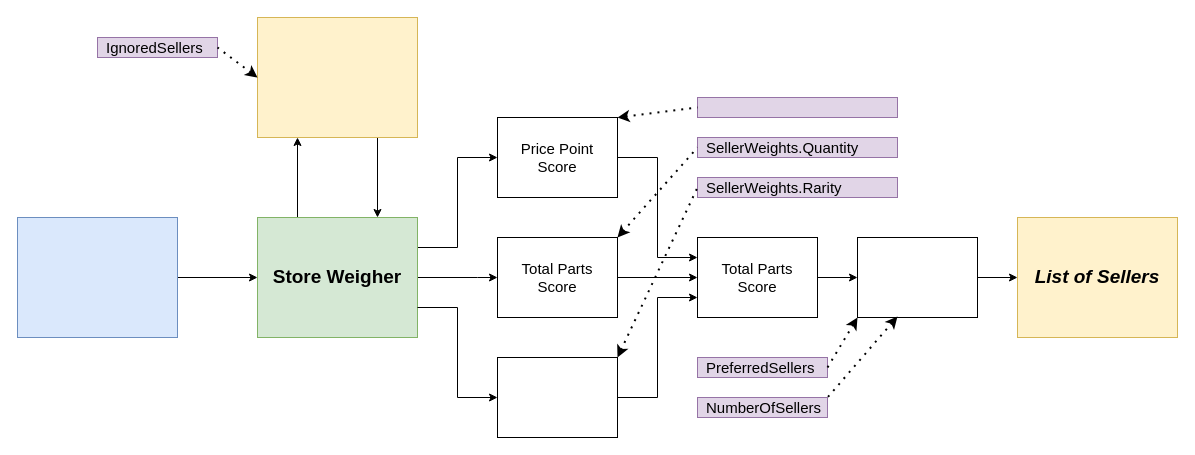
Some shapes in this 1195 by 455 pixel diagram are drawn without their labels. Each missing label, with the box of its shape:
ItemData: (16, 216, 178, 338)
Part Rarity Score: (496, 356, 618, 438)
Seller Rankings collection: (256, 16, 418, 138)
SellerWeights.PricePoint: (696, 96, 898, 118)
Sort: (856, 236, 978, 318)
